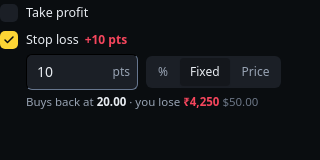
Test case: fixed points › switching back finds the percentage where it was left
Click the radio button labelled "%": {"x": 163, "y": 72} [148,58,178,86]
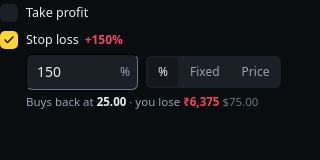
Expected: the field named "stop percent" holds "150", [26,54,138,90]
